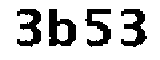3: (118, 6, 148, 51), (15, 5, 42, 50)
5: (84, 6, 113, 49)
b: (48, 7, 78, 49)
